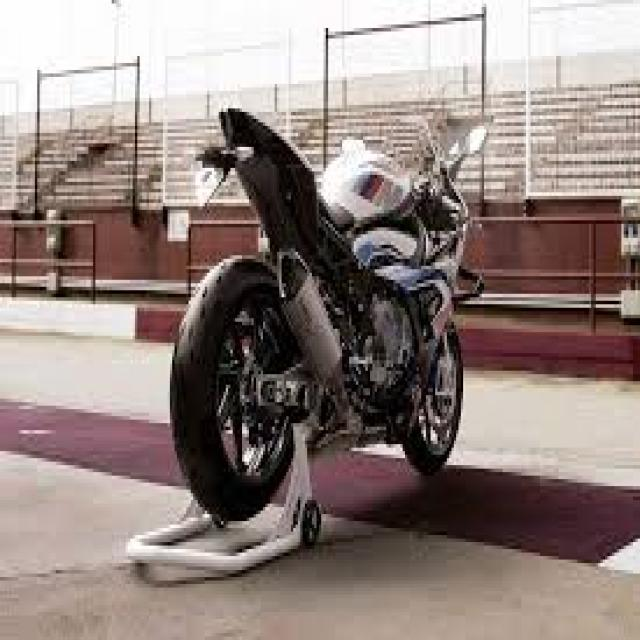Bike: (168, 104, 489, 524)
